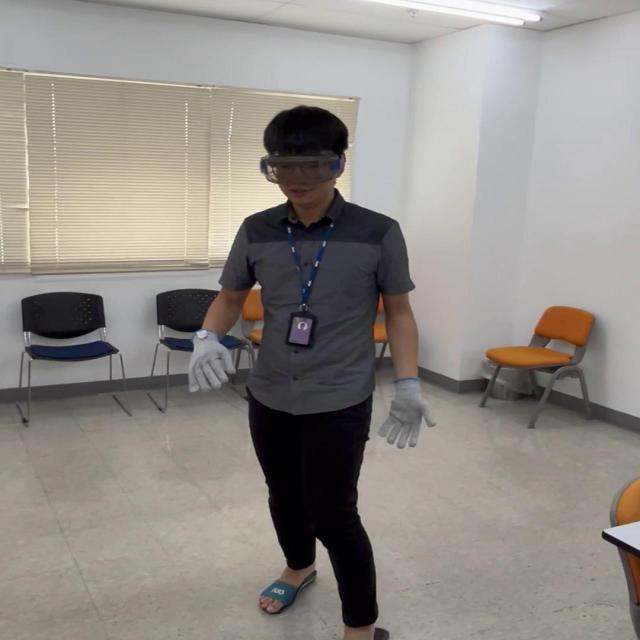gloved_hand: (375, 380, 431, 446), (185, 328, 238, 394)
